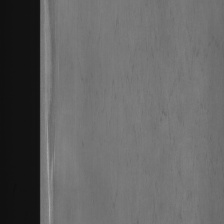silk_spot: (43, 23, 66, 213)
